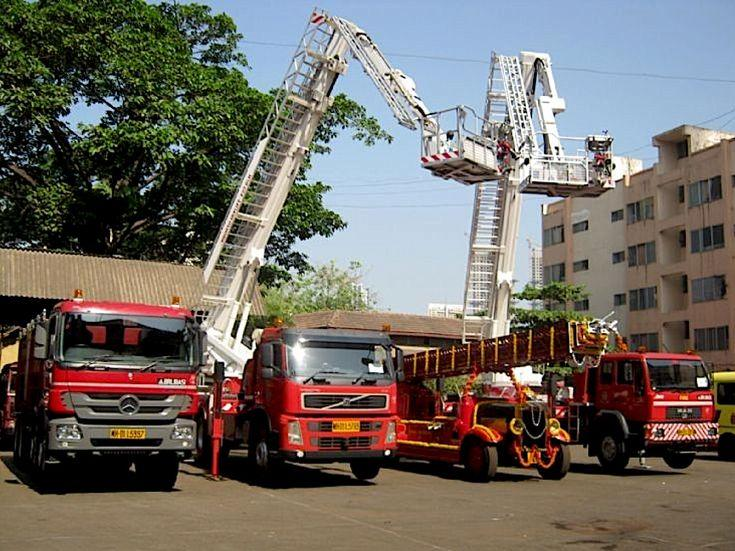Fire-engine: (15, 301, 215, 492), (233, 328, 415, 495), (587, 336, 723, 462)
